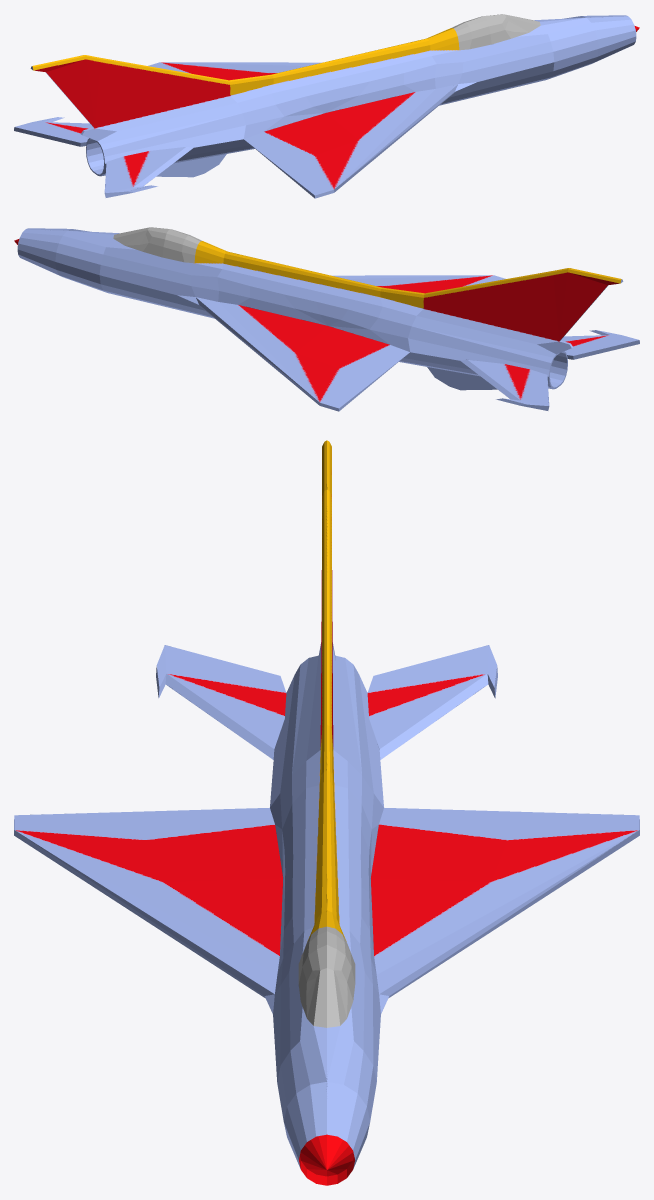
Rendered from mig21.fbx.
3 views of the same model, one above another, from view 1: azimuth 30°, elevation 25°; view 2: azimuth 150°, elevation 25°; view 3: azimuth 270°, elevation 25° (orthographic). The views are drawn at different scales.
Parts seen in each view (by area): view 1: Cylinder; view 2: Cylinder; view 3: Cylinder.
Part boxes in pixels (bbox=[...]): Cylinder: bbox=[14, 14, 639, 198]; Cylinder: bbox=[14, 227, 639, 411]; Cylinder: bbox=[14, 440, 639, 1185].
Size of the model in its own units: 669 by 158 by 333.
Materials: 2 (1 with a texture image).
